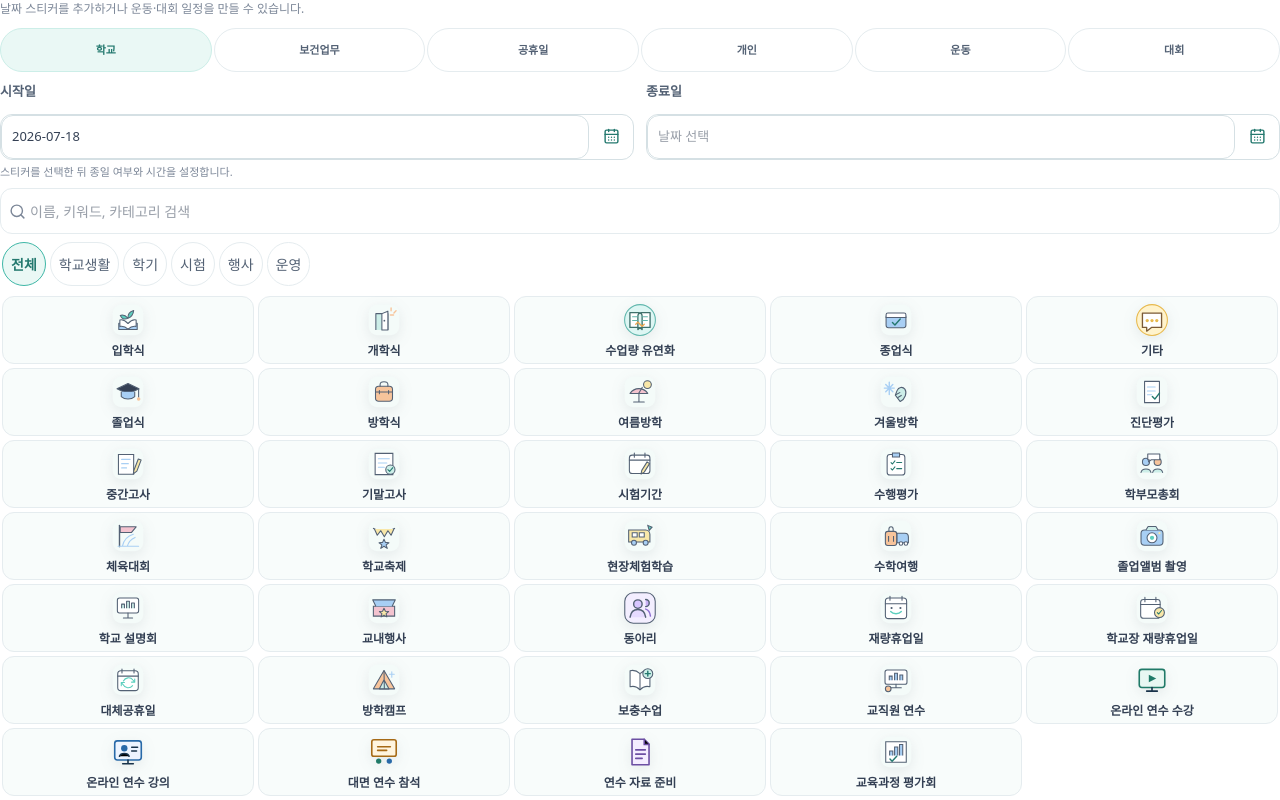
Test: SchoolStickerPicker › searches academic exam and vacation stickers and filters by category
The image size is (1280, 800).
Type "시험" into the search field named "스티커 검색". click: (650, 211)
box: [30,189,1271,233]
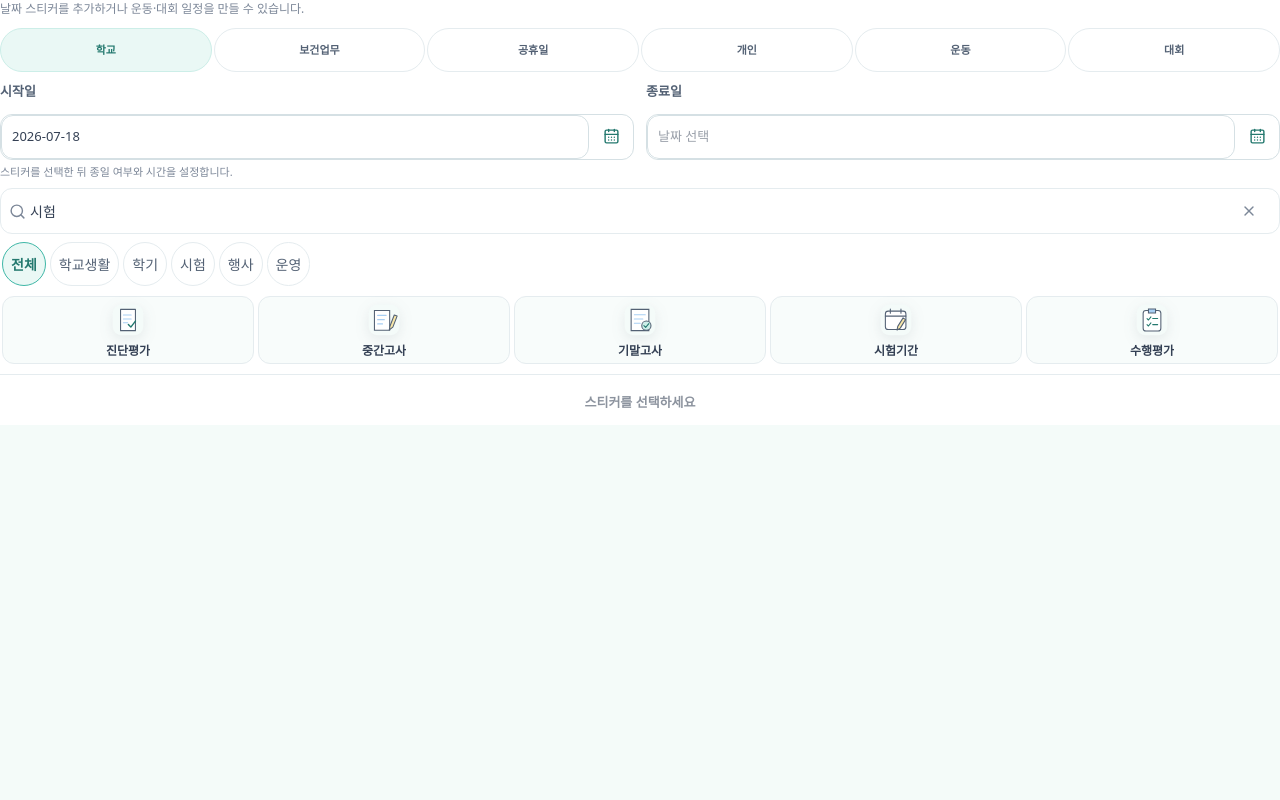
Check: the button with aria-label "7월 18일 중간고사 스티커 선택" is shown, box [258,296,510,364]
Check: the button with aria-label "7월 18일 수행평가 스티커 선택" is shown, box [1026,296,1278,364]
Replace the text in the search field named "스티커 검색" with "방학". click: (626, 211)
box: [30,189,1223,233]
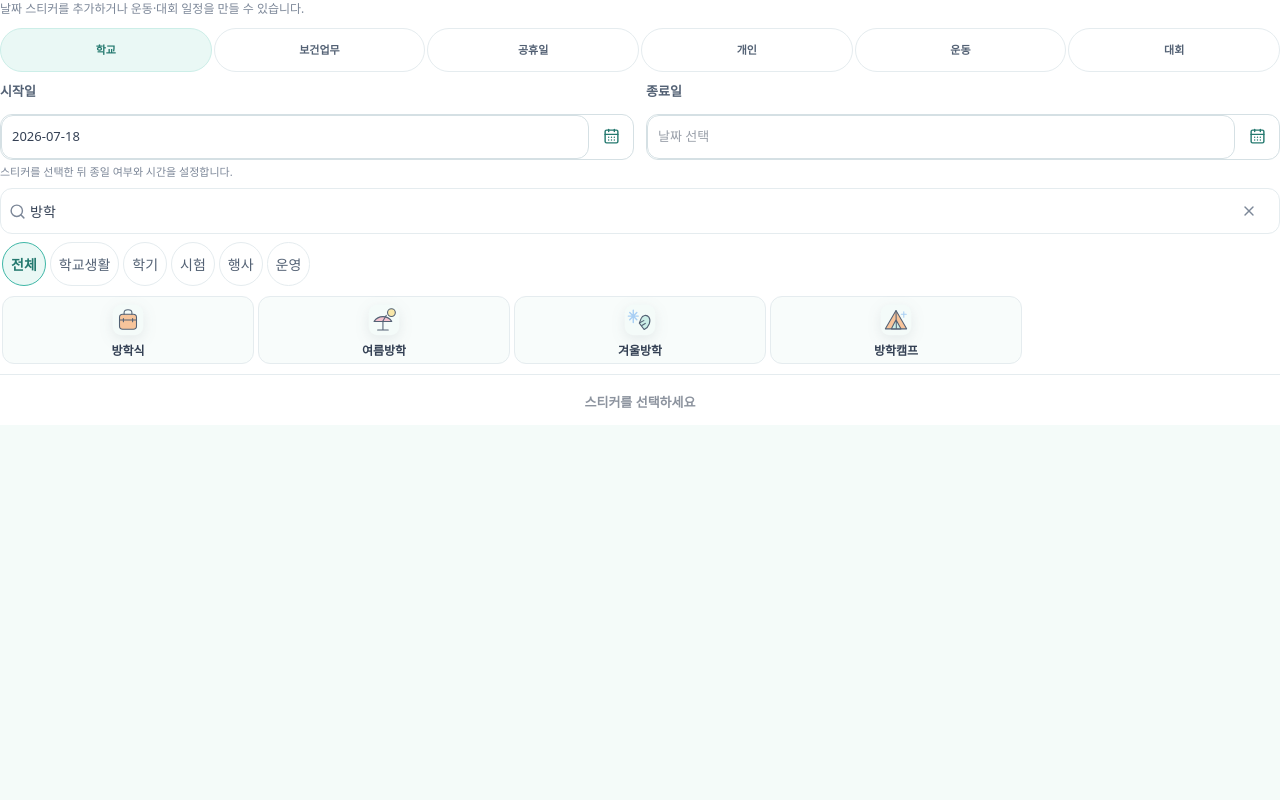
Check: the button with aria-label "7월 18일 여름방학 스티커 선택" is shown
Check: the button with aria-label "7월 18일 방학캠프 스티커 선택" is shown, box [770,296,1022,364]
Click the button with aria-label "7월 18일 여름방학 스티커 선택". click: (384, 330)
box: [258,296,510,364]
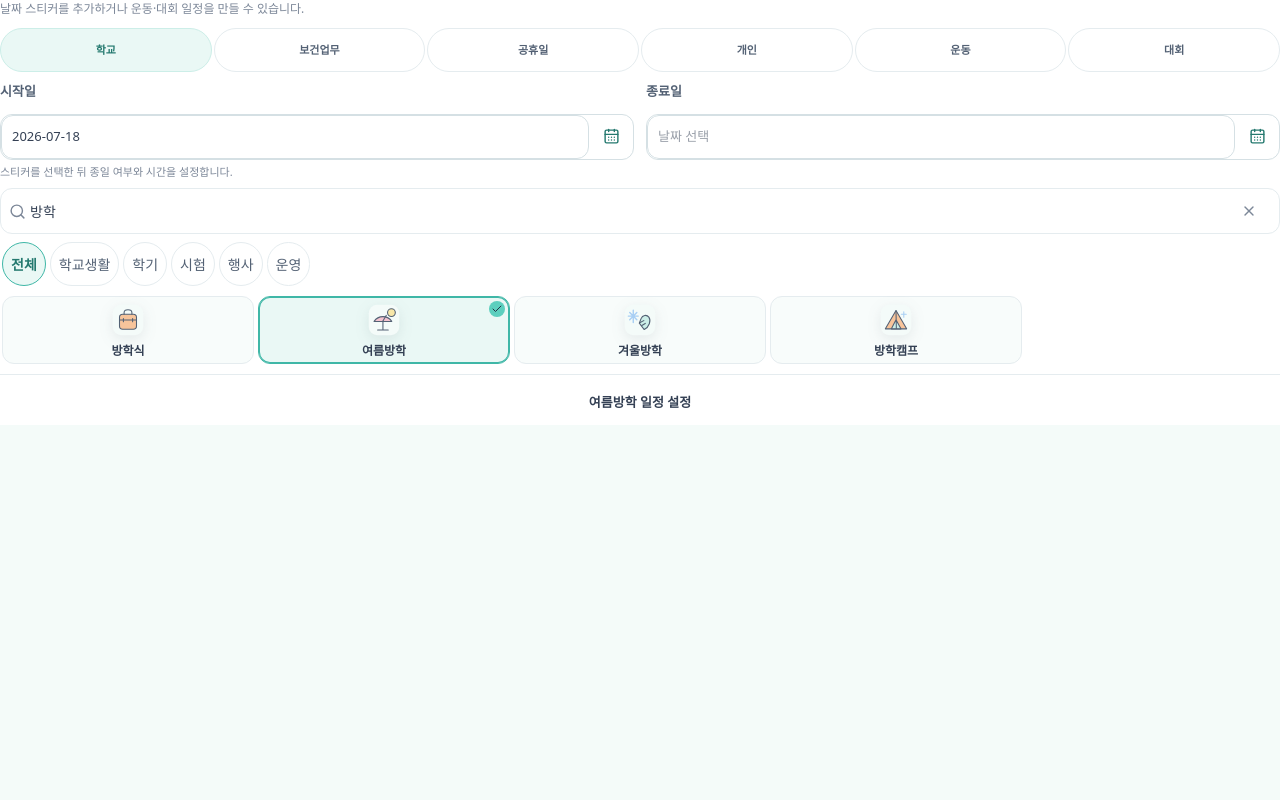
Check: the button "여름방학 일정 설정" is enabled, box [0,383,1279,423]
Replace the text in the search field named "스티커 검색" with "시험". click: (626, 211)
box: [30,189,1223,233]
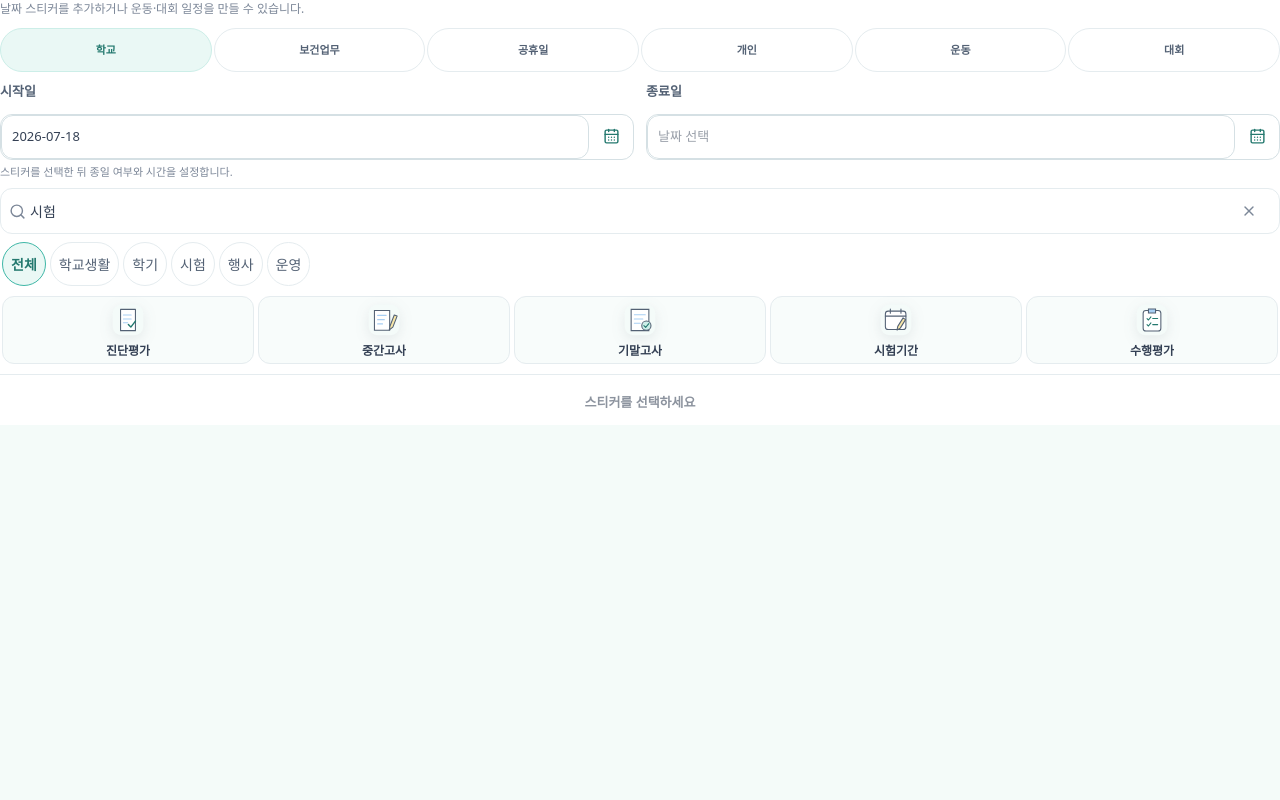
Check: the button "스티커를 선택하세요" is disabled, box [0,383,1279,423]
Click the button named "스티커 검색어 지우기". click: (1249, 211)
box: [1227,189,1271,233]
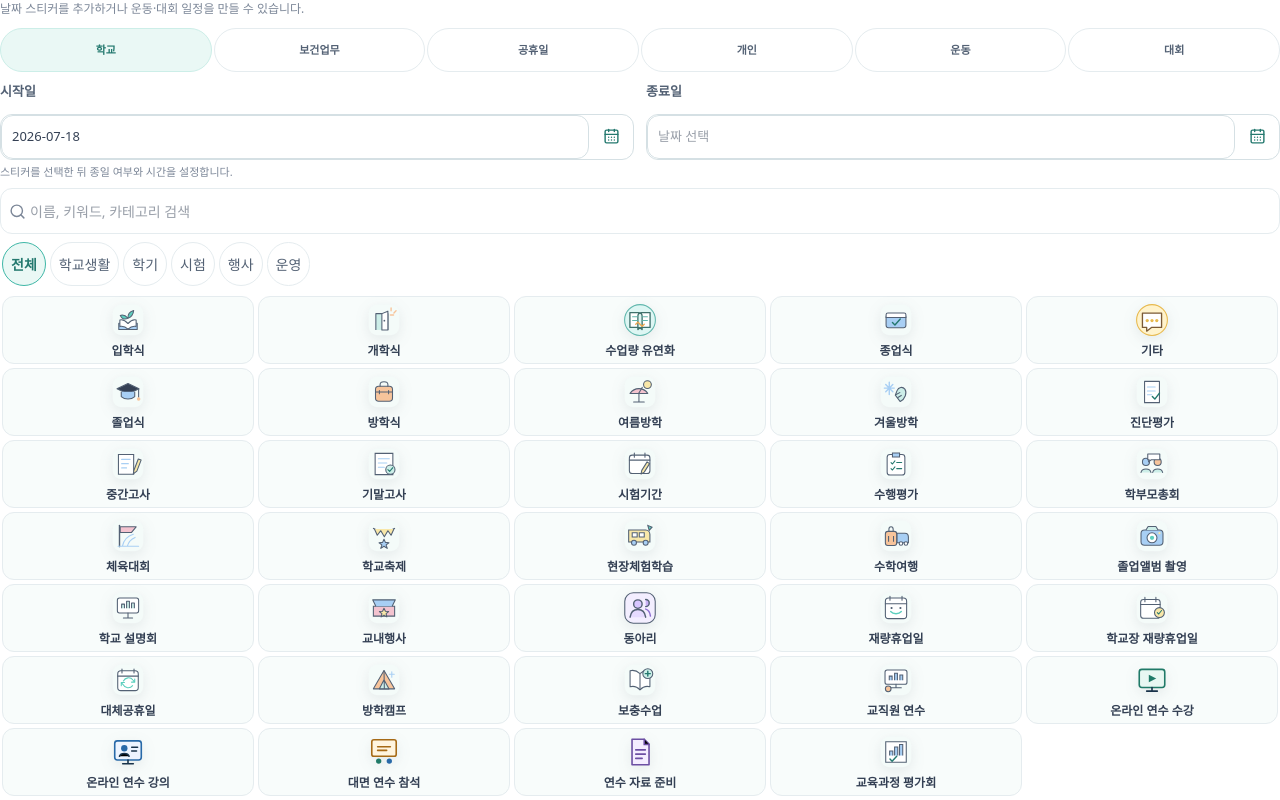
Click the button "시험". click: (193, 264)
box: [171,242,215,286]
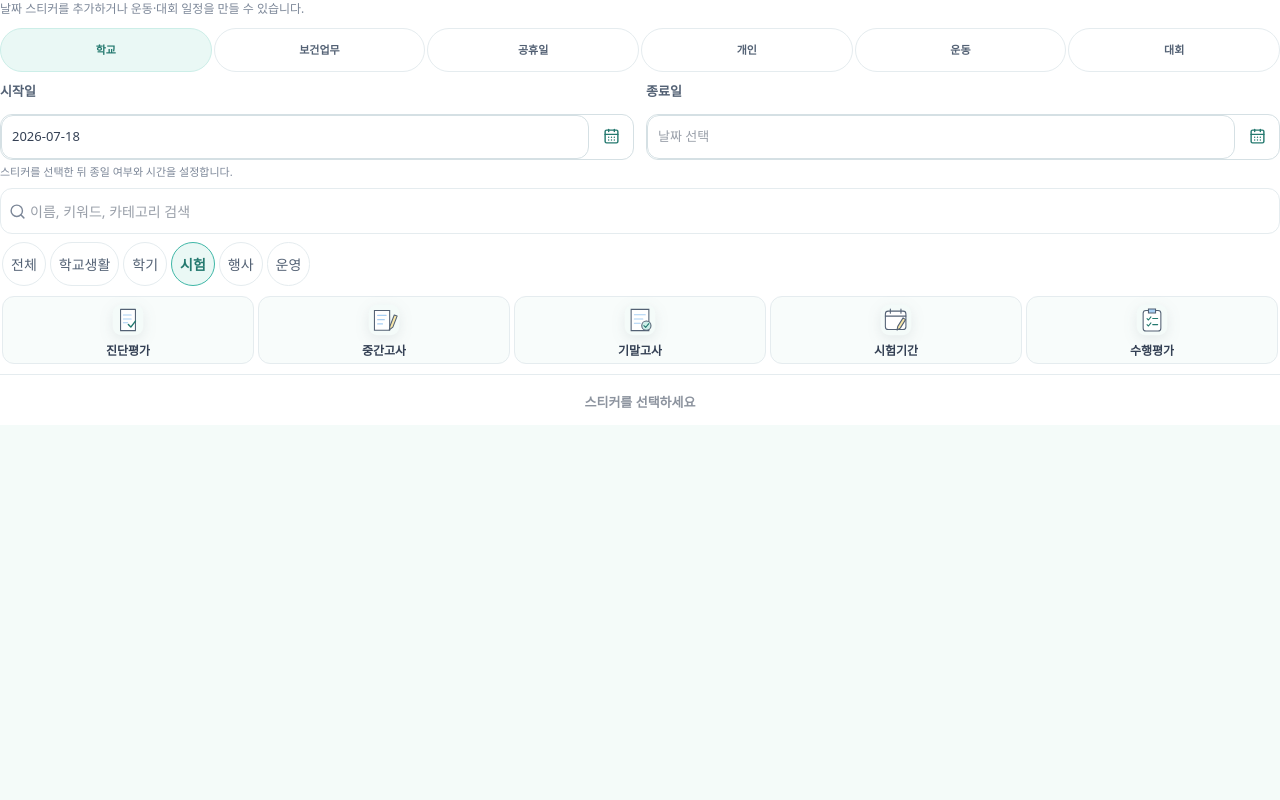
Check: the number of buttons named "스티커 선택" is 5, box [2,296,254,364]; [258,296,510,364]; [514,296,766,364]; [770,296,1022,364]; [1026,296,1278,364]
